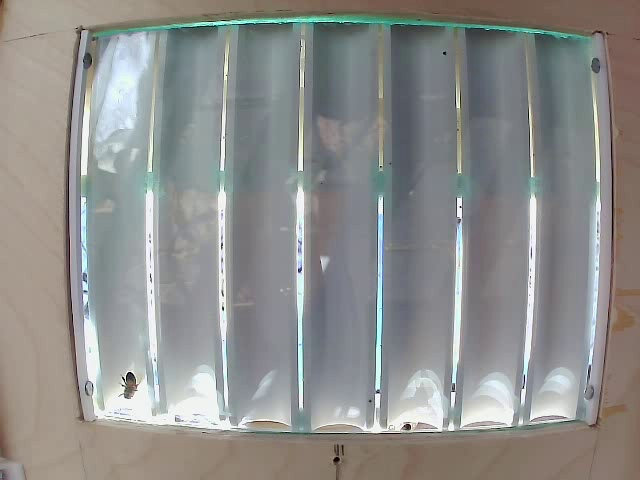bee: (109, 351, 153, 414)
